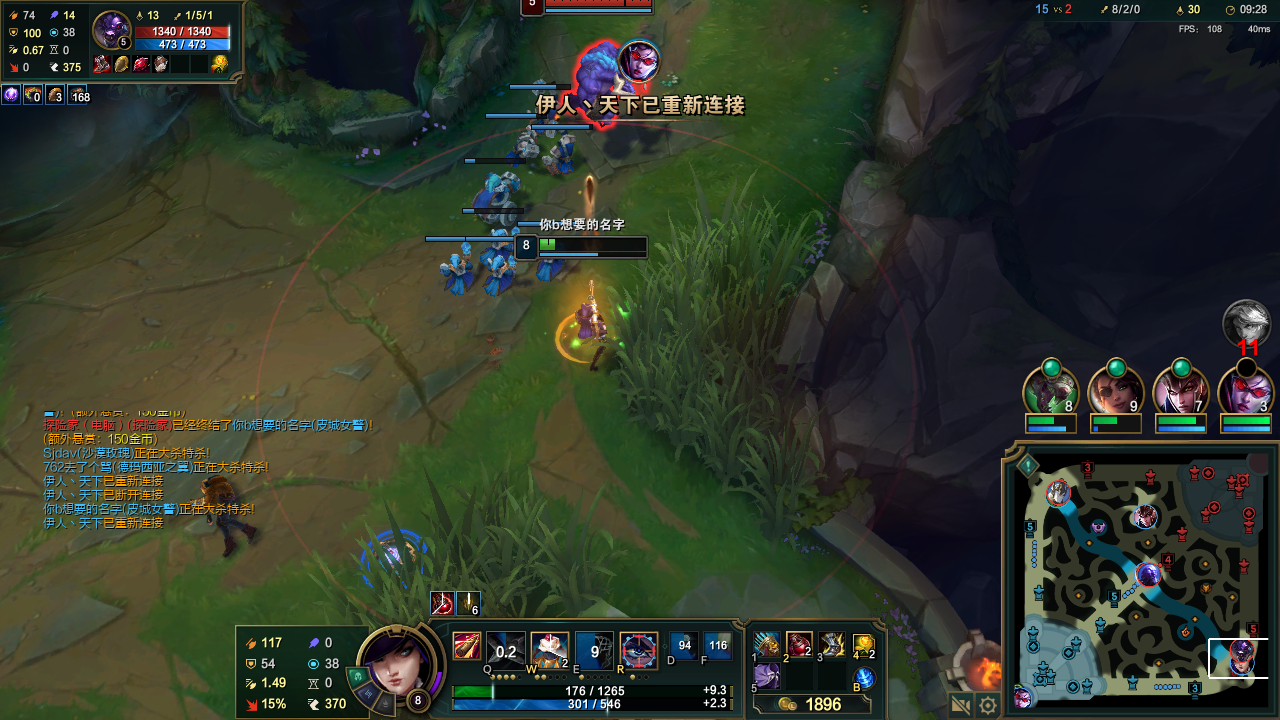DFYX: (545, 1, 629, 8)
WFXB: (480, 172, 522, 221), (440, 246, 476, 293), (482, 255, 520, 294), (543, 139, 580, 168), (535, 258, 563, 281), (514, 130, 536, 159), (490, 225, 514, 249), (531, 98, 555, 122)
